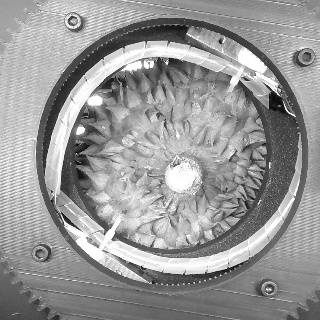base: (155, 150, 209, 204)
end: (164, 160, 196, 192)
